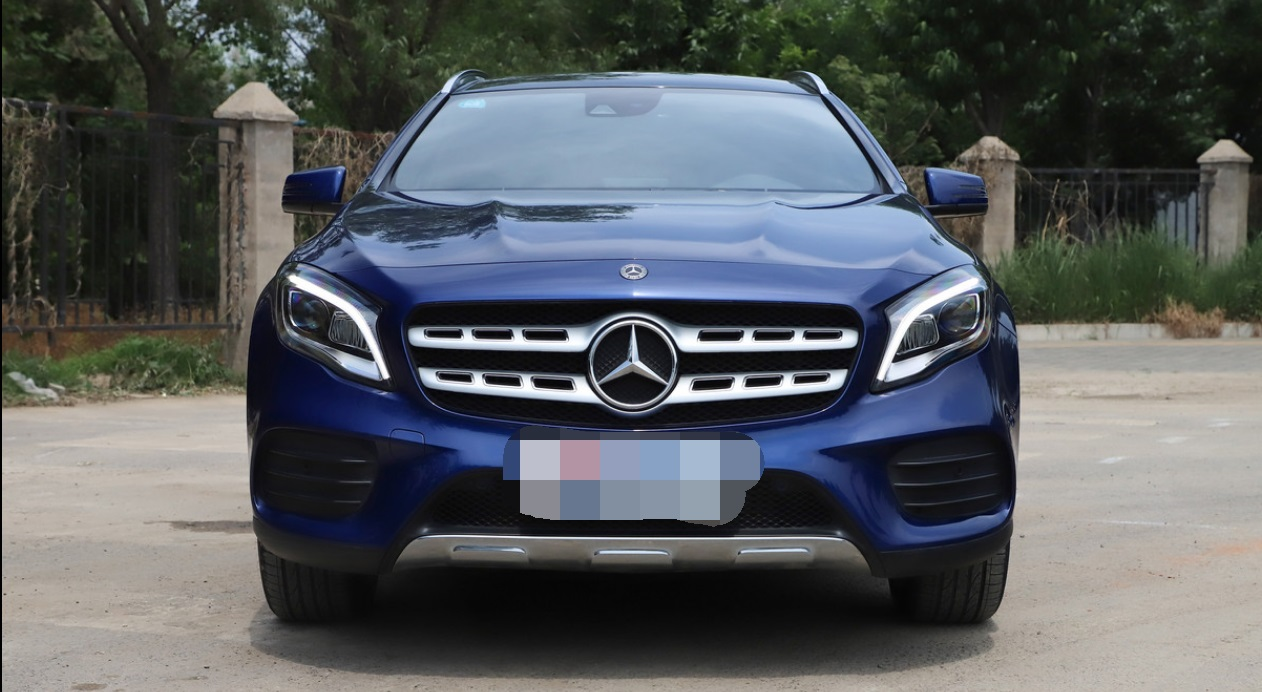SUV: (242, 69, 1034, 649)
